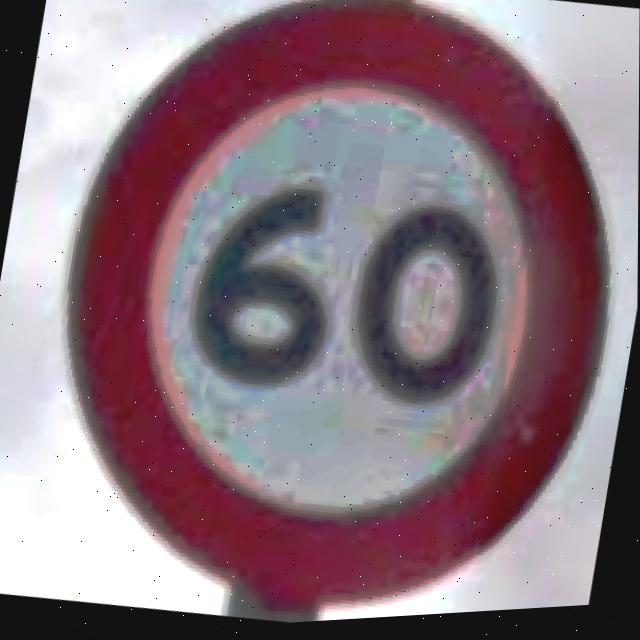max60: (13, 0, 640, 639)
